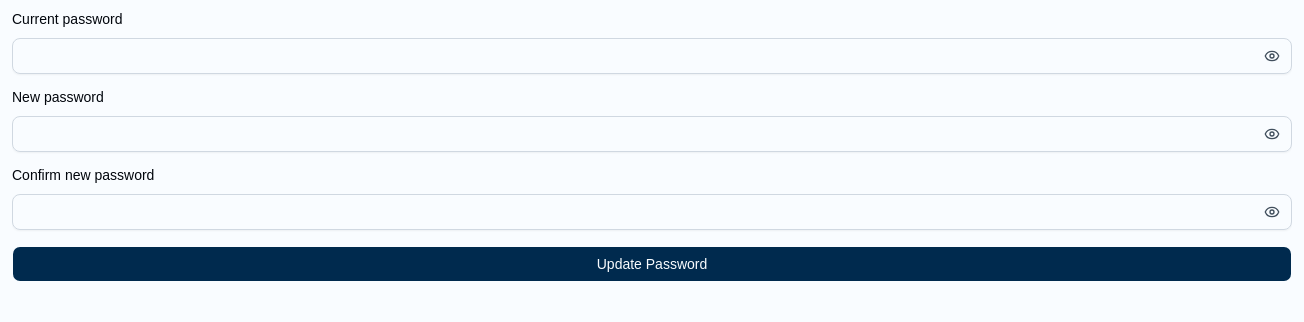
Test: ChangePasswordForm validation › shows password-mismatch error on confirm mismatch (CP-003)
This screenshot has width=1304, height=322.
Type "OldPass123" into the password field labelled "Current password" at point(652, 56), box top-left (12, 38), bottom-right (1292, 74)
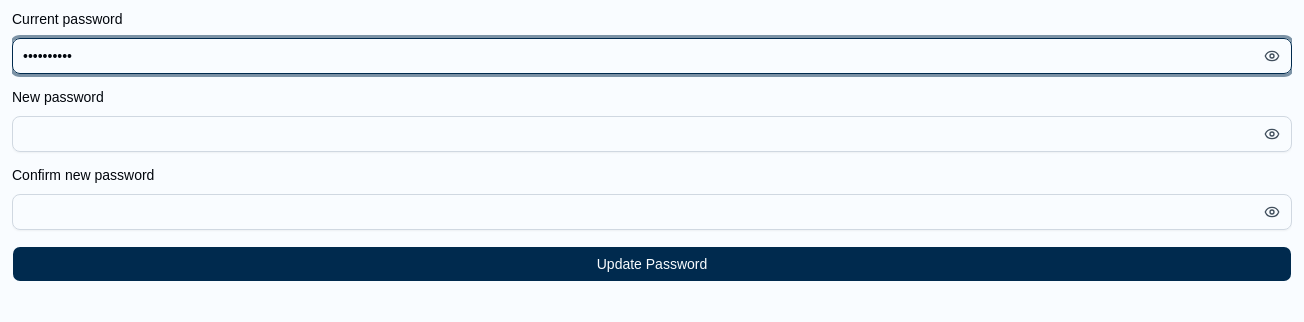
Type "NewPass456" into the password field labelled "New password" at point(652, 134), box top-left (12, 116), bottom-right (1292, 152)
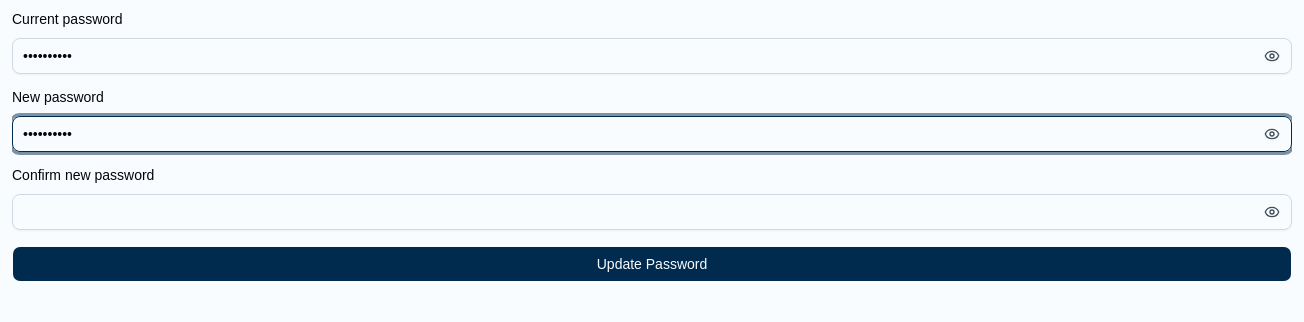
Type "Different1" into the password field labelled "Confirm new password" at point(652, 212), box top-left (12, 194), bottom-right (1292, 230)
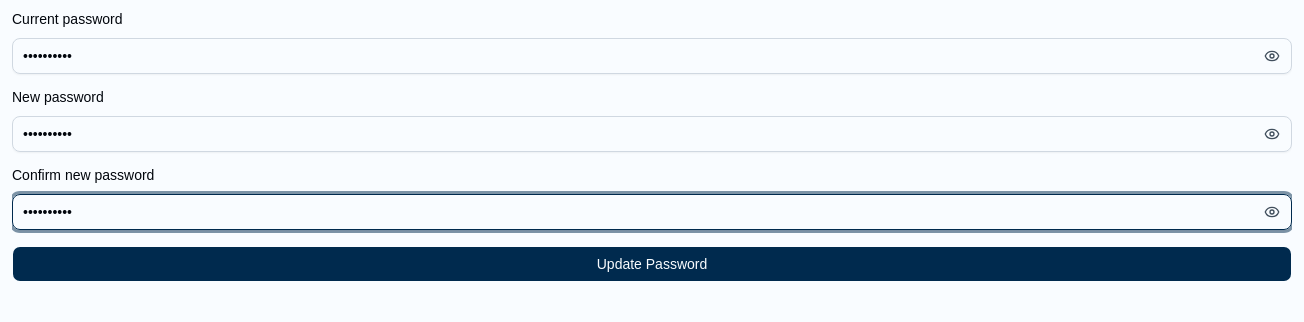
Click the button "Update Password" at point(652, 264), box top-left (12, 246), bottom-right (1292, 282)
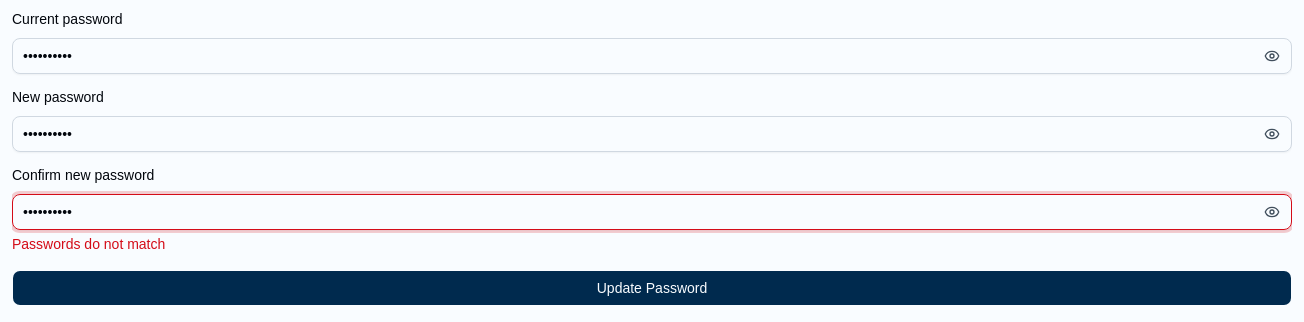
Expected: the text "Passwords do not match" is shown, top-left (12, 236), bottom-right (165, 252)
